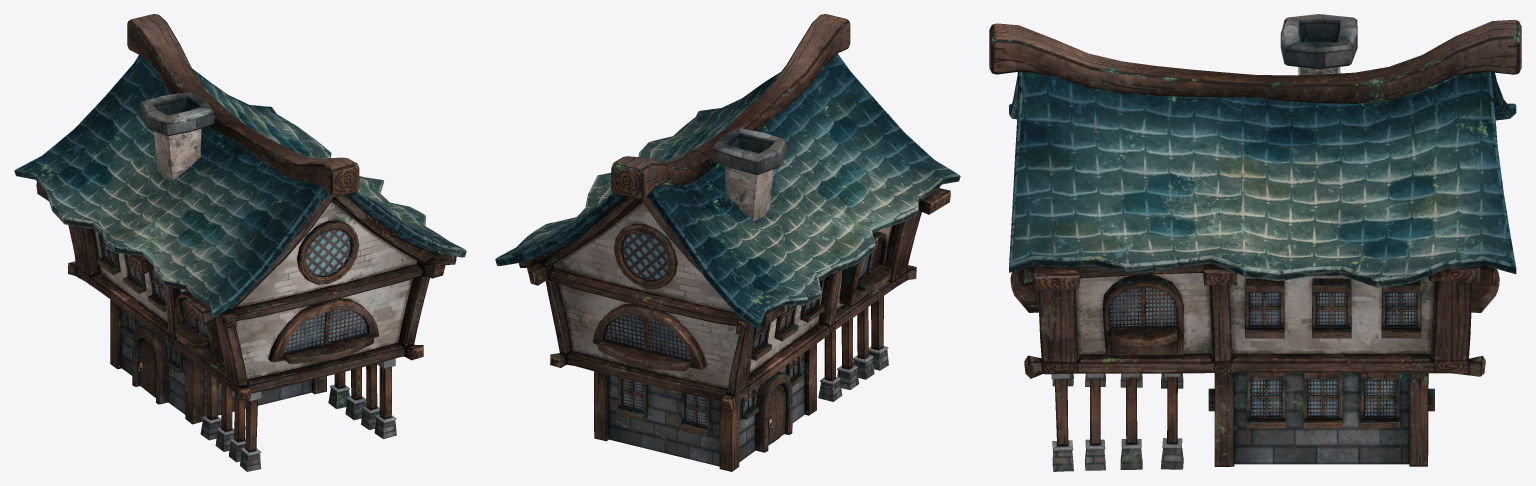
The model's file is fantasy_house.glb.
3 renders of one model, left to right at view 1: azimuth 30°, elevation 25°; view 2: azimuth 150°, elevation 25°; view 3: azimuth 270°, elevation 25°, orthographic. The views are drawn at different scales.
Visible parts, largest first — view 1: Object_8, Object_2, Object_4, Object_3, Object_7, Object_5; view 2: Object_8, Object_2, Object_4, Object_3, Object_5, Object_7, Object_6; view 3: Object_8, Object_2, Object_6, Object_4, Object_5, Object_3.
Part boxes in pixels (x1,y1,x2,y2): Object_8: (14, 14, 466, 318); Object_2: (36, 92, 456, 471); Object_4: (175, 220, 368, 364); Object_3: (268, 298, 379, 363); Object_7: (132, 325, 168, 404); Object_5: (93, 228, 182, 372); Object_8: (495, 14, 960, 329); Object_2: (519, 128, 950, 471); Object_4: (603, 224, 890, 360); Object_3: (592, 304, 706, 371); Object_5: (615, 279, 824, 425); Object_7: (755, 371, 792, 452); Object_6: (678, 389, 758, 435); Object_8: (989, 20, 1521, 287); Object_2: (1017, 14, 1496, 471); Object_6: (1245, 278, 1421, 428); Object_4: (1102, 274, 1183, 355); Object_5: (1208, 278, 1434, 428); Object_3: (1010, 269, 1499, 312).
Bounding box in the file's own units: 22.08 × 23.87 × 28.96.
Materials: 5 (5 with a texture image).
